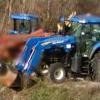Tractor: (26, 12, 100, 85)
